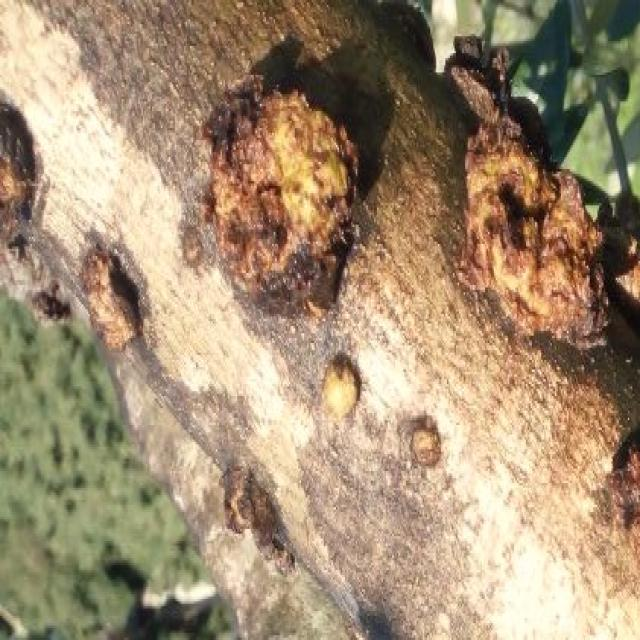Tuberculosis: (445, 36, 608, 350), (201, 72, 357, 316), (223, 466, 293, 565), (79, 242, 141, 350), (0, 99, 35, 287), (324, 353, 360, 420), (412, 420, 439, 466)
